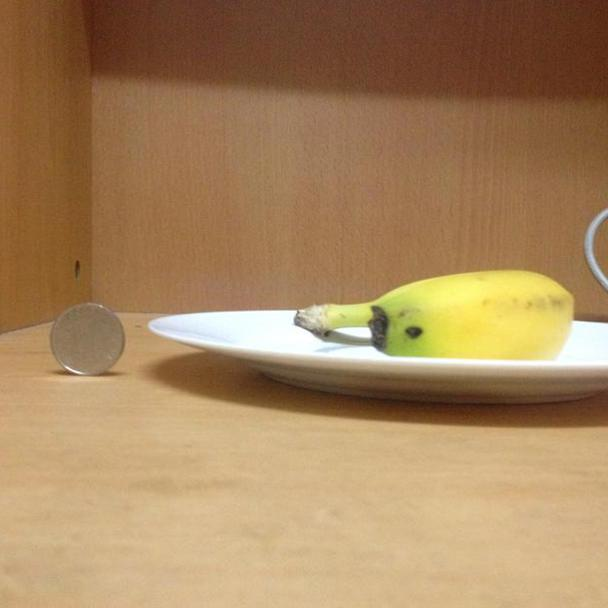banana: (295, 266, 586, 359)
